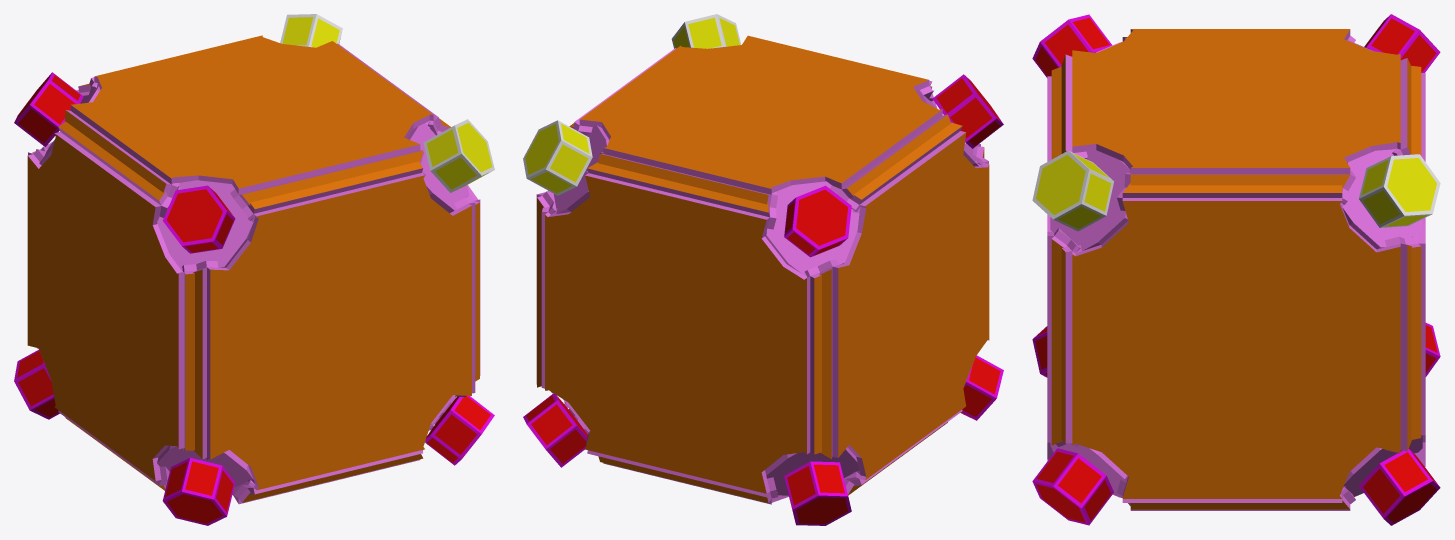
The model's file is Simple_Cube_LowRes_v01.FBX.
3 views of the same model, side by side, from view 1: azimuth 30°, elevation 25°; view 2: azimuth 150°, elevation 25°; view 3: azimuth 270°, elevation 25° (orthographic). The views are drawn at different scales.
Visible parts, largest first — view 1: GEARS; view 2: GEARS; view 3: GEARS.
Part boxes in pixels (box(x1,y1,x2,y2)): GEARS: box(14, 14, 494, 525); GEARS: box(523, 14, 1003, 525); GEARS: box(1032, 14, 1440, 525).
Bounding box in the file's own units: 11.33 × 11.33 × 11.33.
